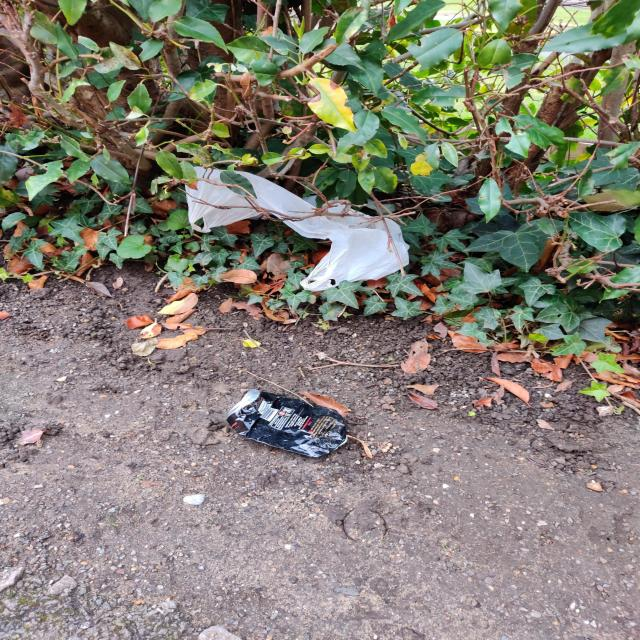litter: (190, 166, 410, 289), (224, 389, 348, 457)
